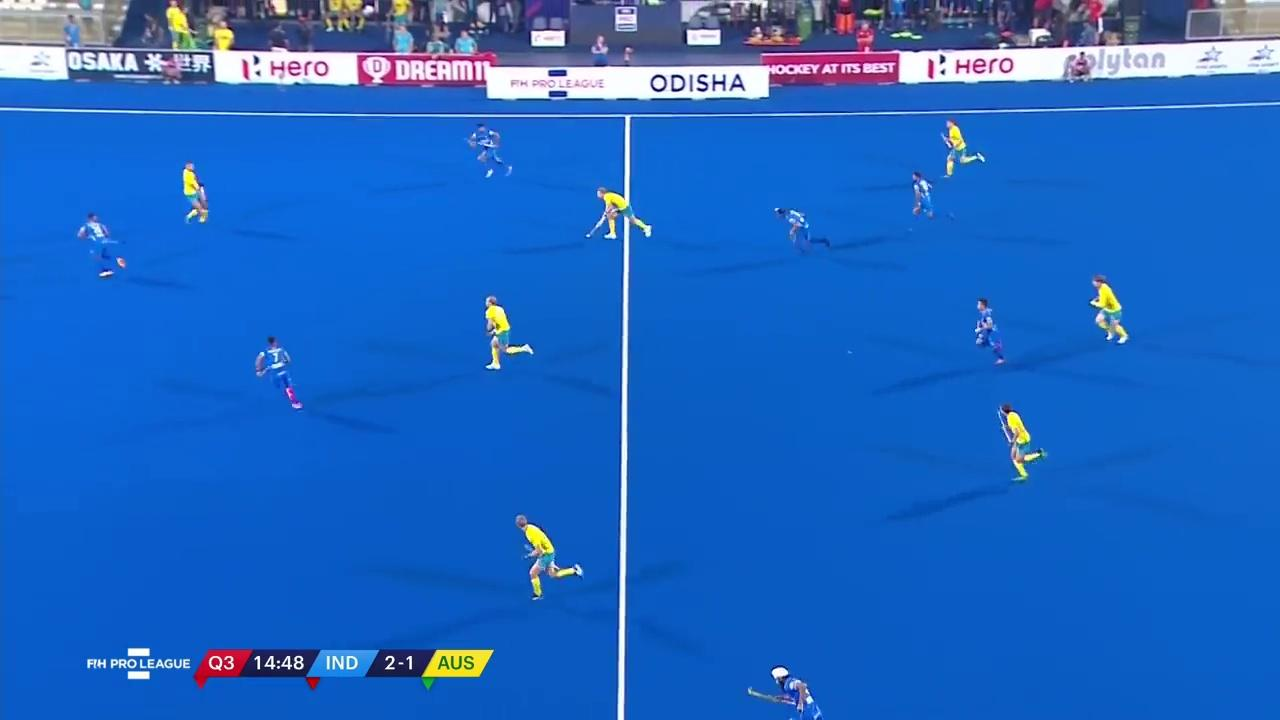ball: (581, 230, 596, 239)
